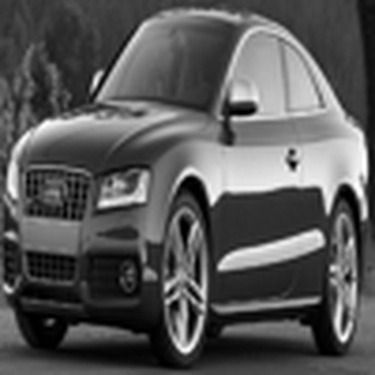car: (2, 4, 371, 372)
